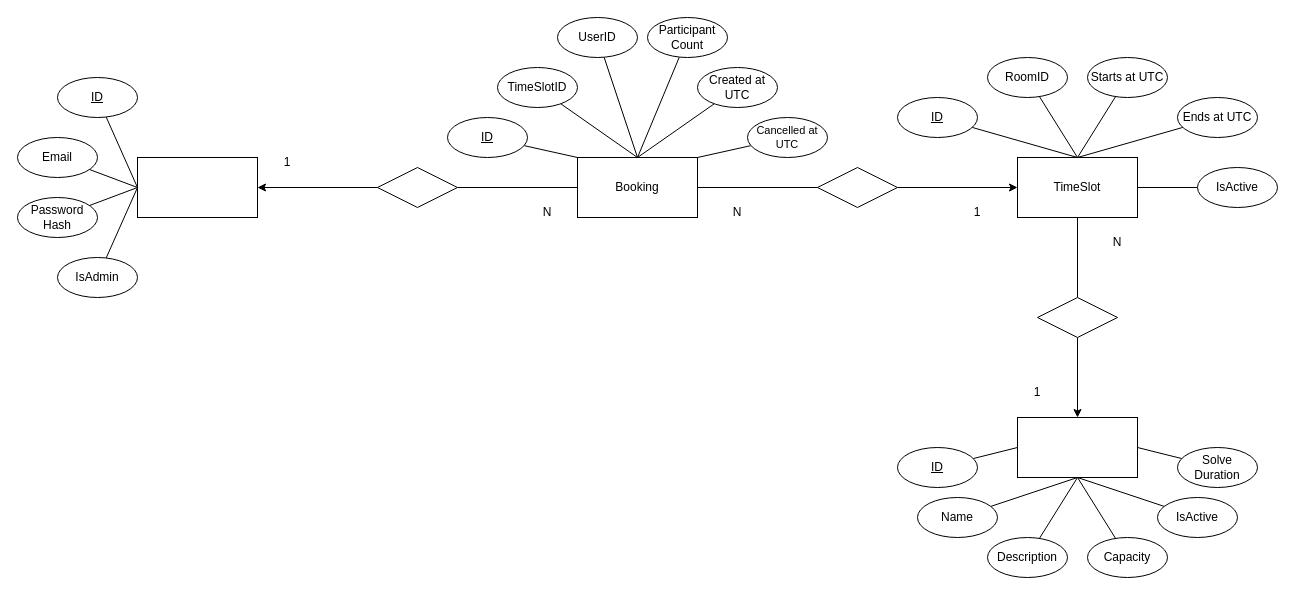
This 1295x595 diagram has some shape labels left out. Each missing label, with the box of its shape:
Has: (1036, 296, 1118, 338)
Makes: (376, 166, 458, 208)
Reserves: (816, 166, 898, 208)
Room: (1016, 416, 1138, 478)
User: (136, 156, 258, 218)
